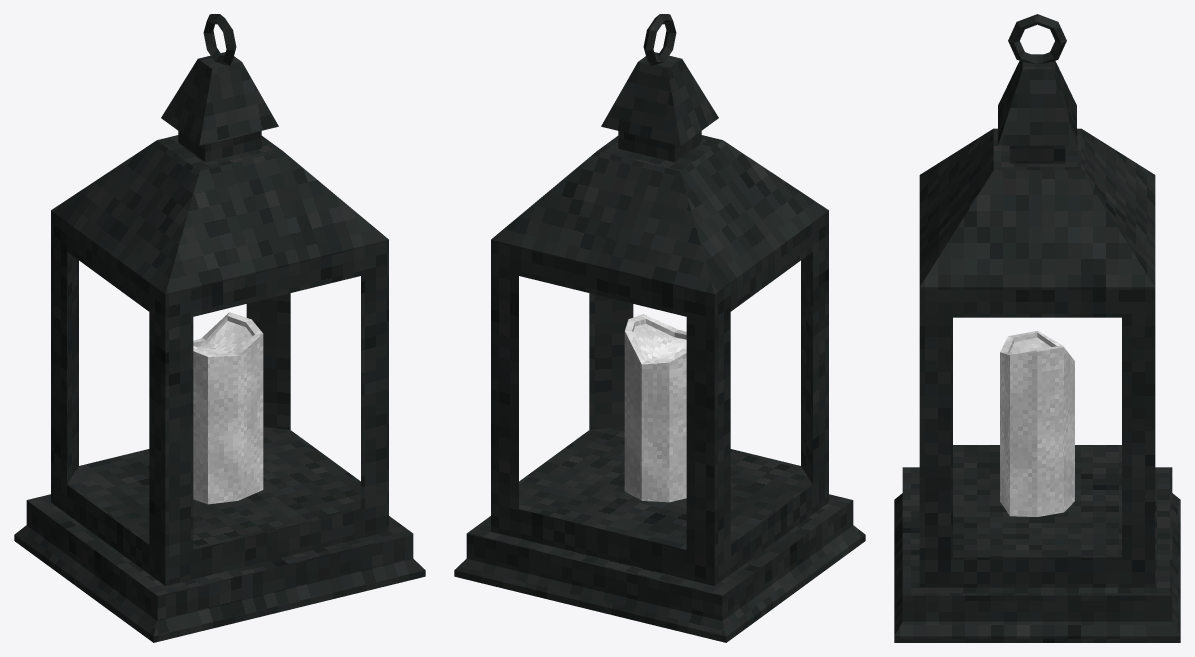
File: lantern.glb
The picture shows the model from 3 angles, left to right: view 1: azimuth 30°, elevation 25°; view 2: azimuth 150°, elevation 25°; view 3: azimuth 270°, elevation 25°; orthographic projection. The views are drawn at different scales.
Parts seen in each view (by area): view 1: Handle, Candle; view 2: Handle, Candle; view 3: Handle, Candle.
Boxes of the visible parts, bbox=[...] form: Handle: bbox=[14, 14, 425, 642]; Candle: bbox=[193, 312, 263, 504]; Handle: bbox=[454, 14, 865, 642]; Candle: bbox=[624, 314, 686, 502]; Handle: bbox=[894, 14, 1180, 642]; Candle: bbox=[1000, 330, 1074, 516].
Bounding box in the file's own units: 0.9684 × 1.85 × 0.8589.
2 materials, 2 textured.
